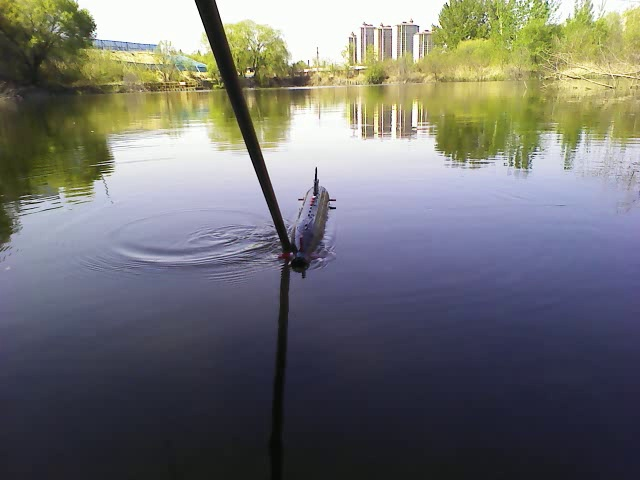submarine: (283, 167, 340, 270)
